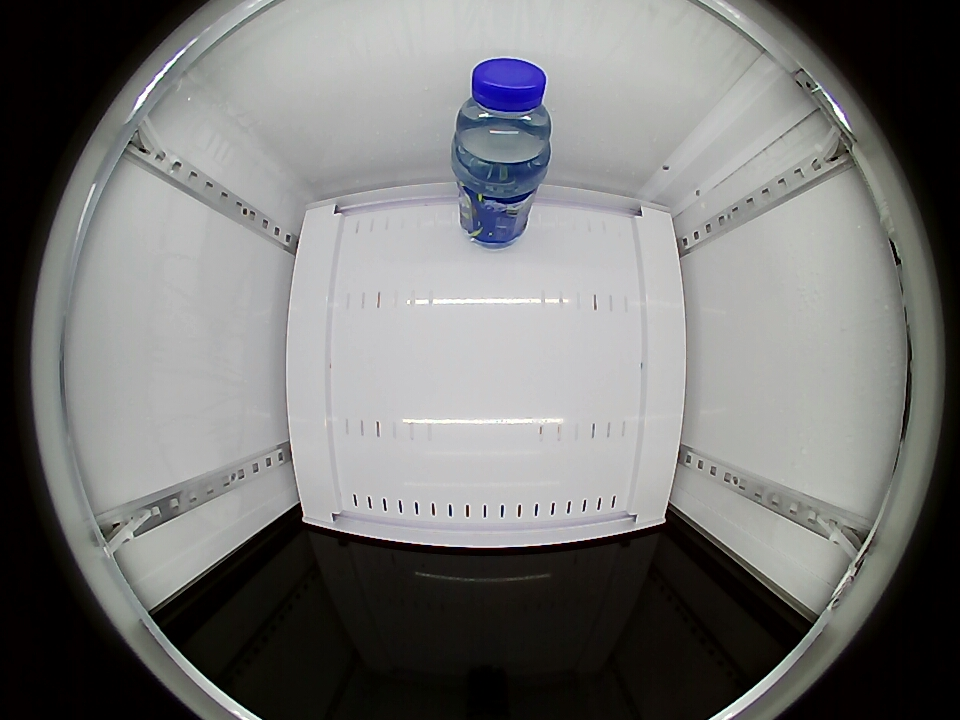maidong: (454, 57, 552, 174)
